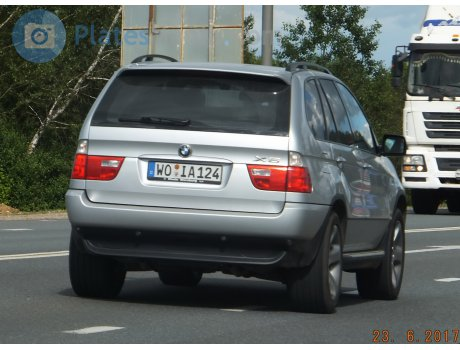License Plates: (153, 159, 218, 179)
